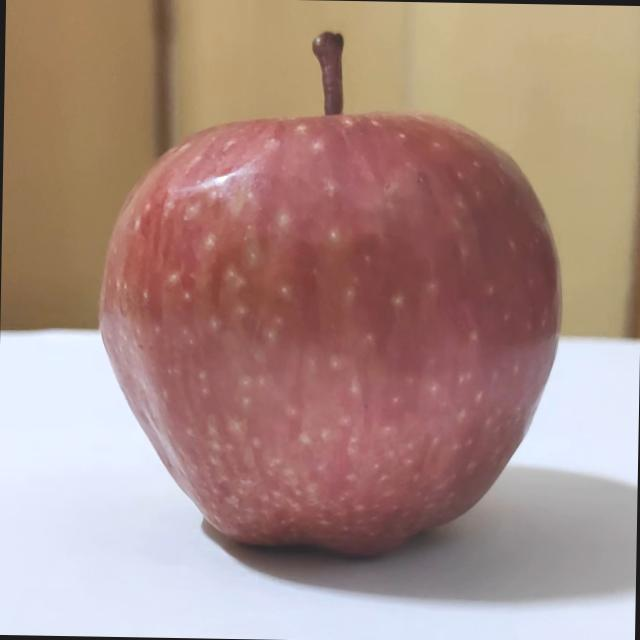apple: (88, 17, 570, 568)
